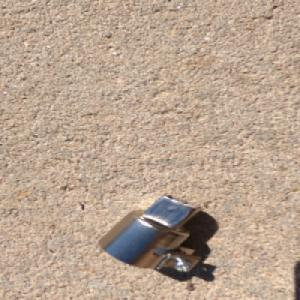MetalPart: (94, 193, 203, 274)
